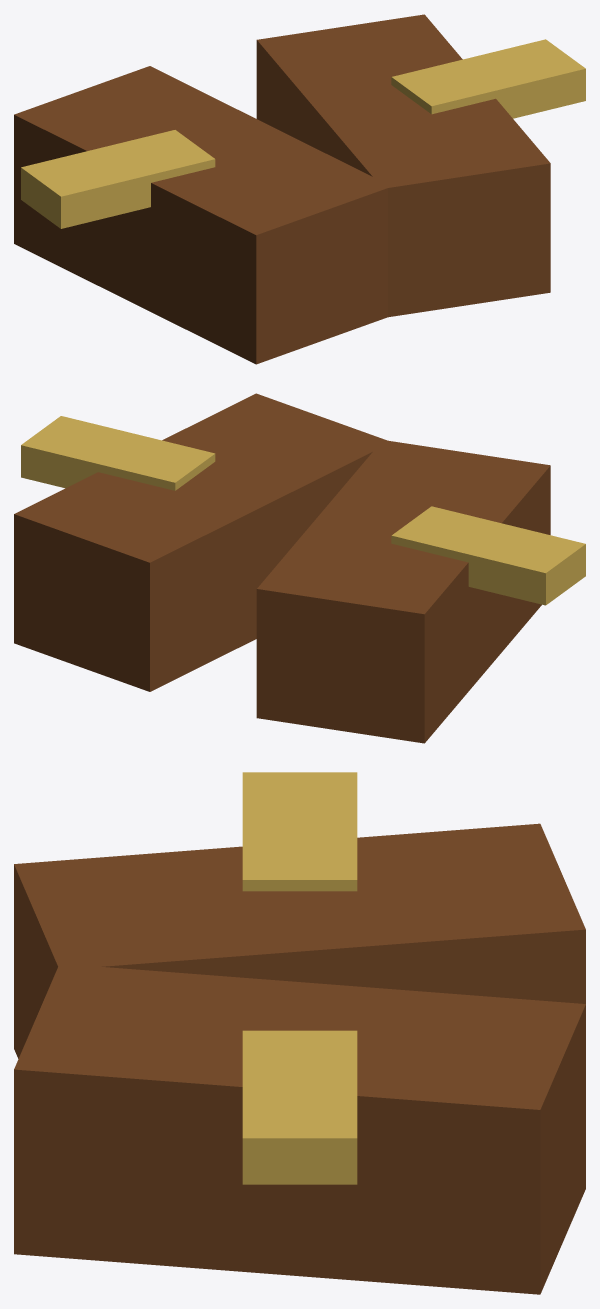
The model's file is boots_of_speed.glb.
3 views of the same model, one above another, from view 1: azimuth 30°, elevation 25°; view 2: azimuth 150°, elevation 25°; view 3: azimuth 270°, elevation 25° (orthographic). The views are drawn at different scales.
Parts seen in each view (by area): view 1: boots-left, boots-right, boots-speed-gold-wing-left, boots-speed-gold-wing-right; view 2: boots-right, boots-left, boots-speed-gold-wing-left, boots-speed-gold-wing-right; view 3: boots-right, boots-left, boots-speed-gold-wing-right, boots-speed-gold-wing-left.
Boxes of the visible parts, left/top/right/bottom form: boots-left: left=14, top=66, right=391, bottom=364; boots-right: left=256, top=14, right=550, bottom=317; boots-speed-gold-wing-left: left=21, top=130, right=215, bottom=228; boots-speed-gold-wing-right: left=391, top=39, right=585, bottom=118; boots-right: left=14, top=393, right=391, bottom=691; boots-left: left=256, top=440, right=550, bottom=743; boots-speed-gold-wing-left: left=391, top=506, right=585, bottom=605; boots-speed-gold-wing-right: left=21, top=416, right=215, bottom=490; boots-right: left=14, top=963, right=585, bottom=1294; boots-left: left=14, top=823, right=585, bottom=1058; boots-speed-gold-wing-right: left=242, top=1030, right=357, bottom=1184; boots-speed-gold-wing-left: left=242, top=772, right=357, bottom=891.
Size of the model in its own units: 0.68 by 0.17 by 0.449.
